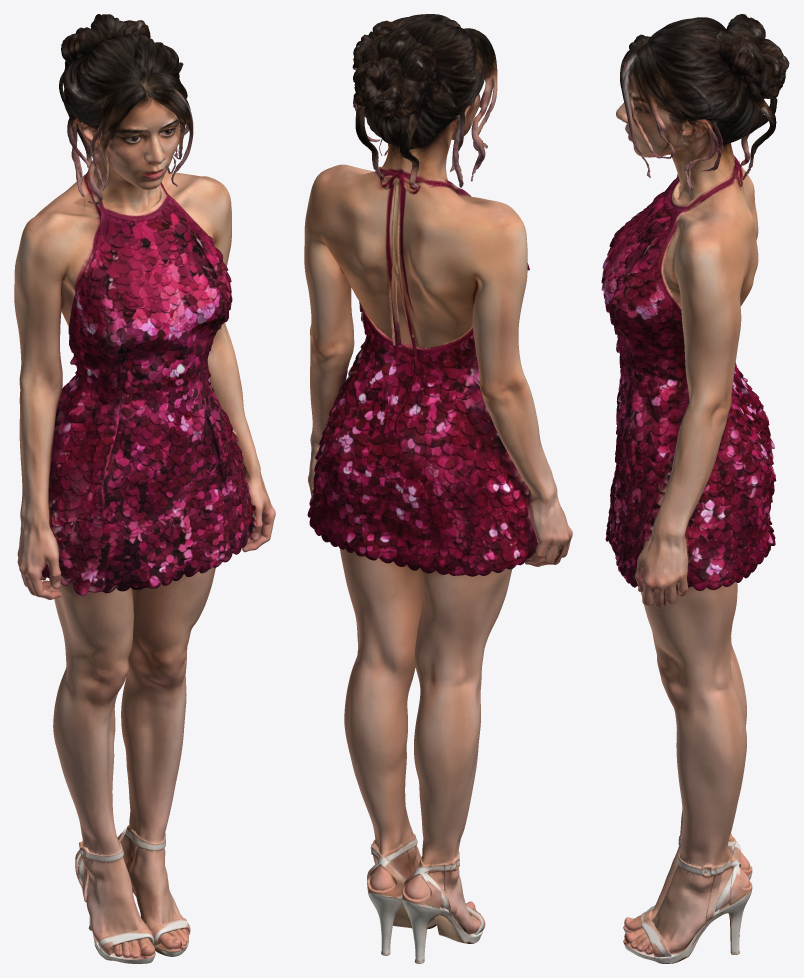
The model's file is pink+sequin+dress+3d+model.glb.
3 views of the same model, side by side, from view 1: azimuth 30°, elevation 25°; view 2: azimuth 150°, elevation 25°; view 3: azimuth 270°, elevation 25° (orthographic). The views are drawn at different scales.
Parts seen in each view (by area): view 1: tripo_node_3079fd0b-28fd-4e41-96f7-4b5896eae10a; view 2: tripo_node_3079fd0b-28fd-4e41-96f7-4b5896eae10a; view 3: tripo_node_3079fd0b-28fd-4e41-96f7-4b5896eae10a.
Boxes of the visible parts, left/top/right/bottom form: tripo_node_3079fd0b-28fd-4e41-96f7-4b5896eae10a: left=14, top=14, right=275, bottom=963; tripo_node_3079fd0b-28fd-4e41-96f7-4b5896eae10a: left=304, top=14, right=572, bottom=963; tripo_node_3079fd0b-28fd-4e41-96f7-4b5896eae10a: left=601, top=14, right=789, bottom=963.
Size of the model in its own units: 0.2857 by 0.9843 by 0.1806.
Materials: 1 (1 with a texture image).
